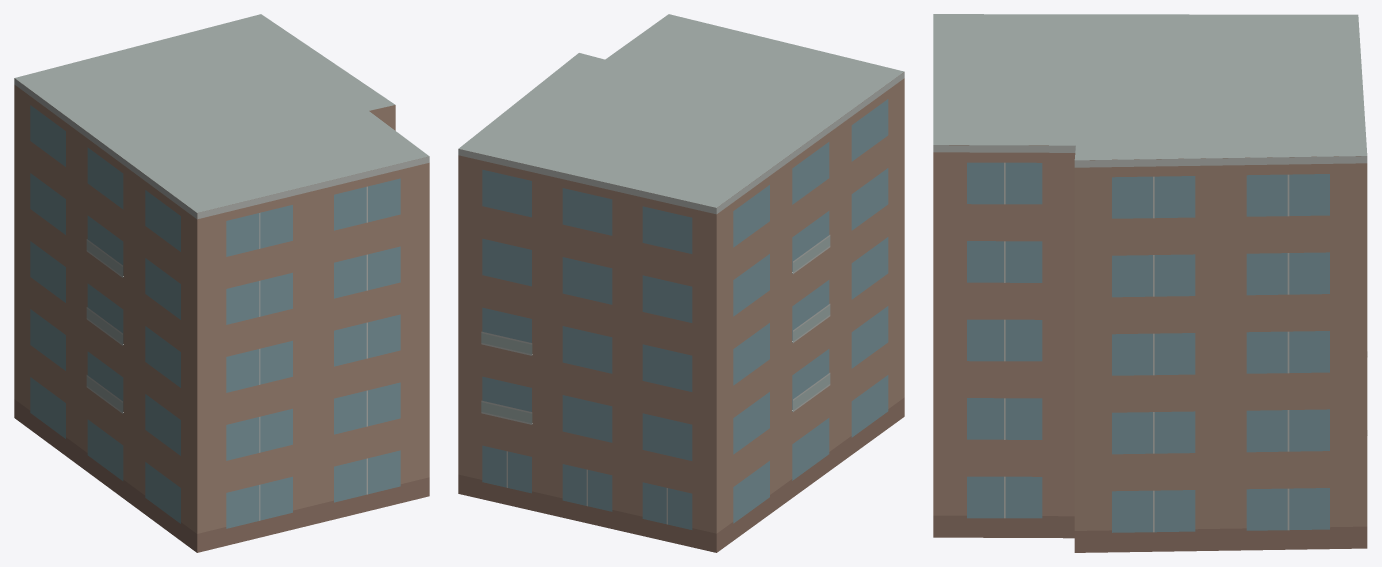
The model's file is survey-upis-32890013.glb.
The picture shows the model from 3 angles, left to right: view 1: azimuth 30°, elevation 25°; view 2: azimuth 150°, elevation 25°; view 3: azimuth 270°, elevation 25°; orthographic projection. The views are drawn at different scales.
Visible parts, largest first — view 1: survey-upis-32890013.tmp; view 2: survey-upis-32890013.tmp; view 3: survey-upis-32890013.tmp.
Boxes of the visible parts, <box> form: survey-upis-32890013.tmp: <box>14,14,429,552</box>; survey-upis-32890013.tmp: <box>458,14,904,552</box>; survey-upis-32890013.tmp: <box>933,14,1367,552</box>.
Size of the model in its own units: 10.42 by 13 by 13.05.
